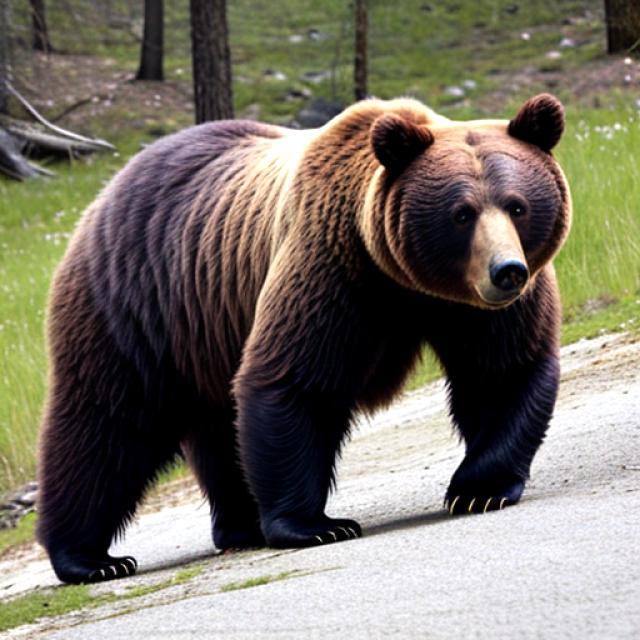bear: (334, 90, 594, 307)
